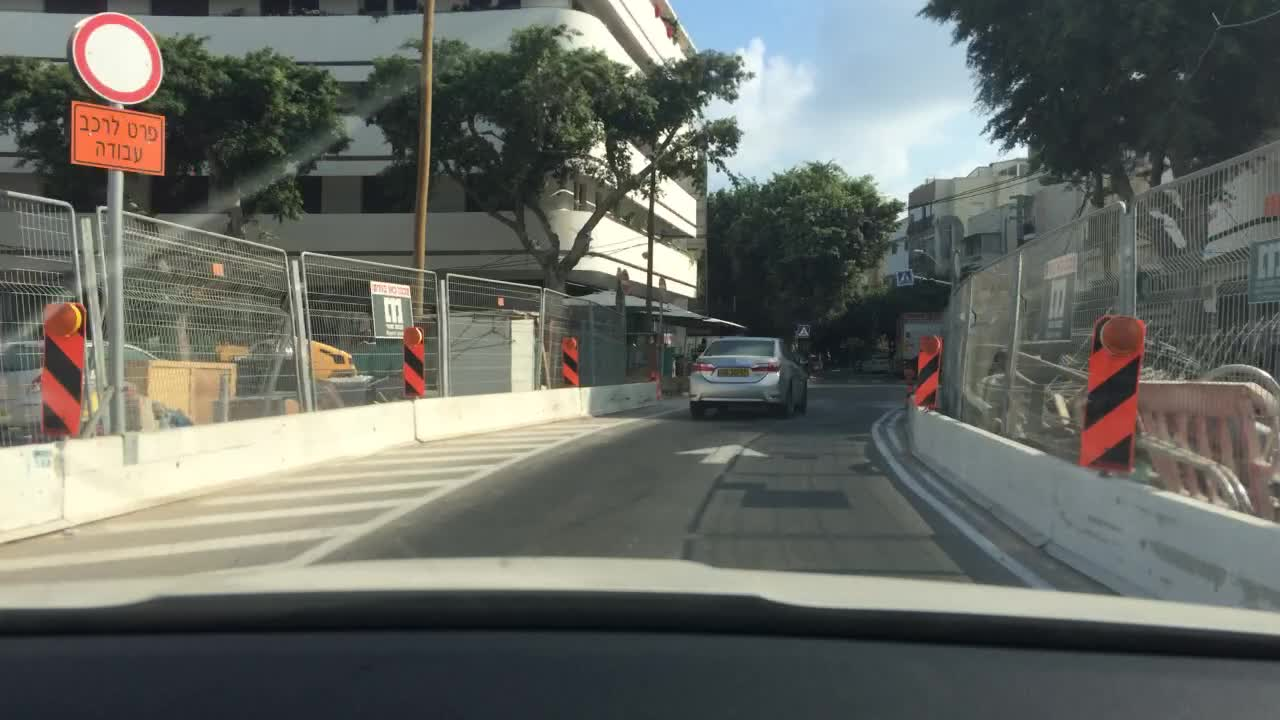car: (1, 336, 156, 432), (139, 328, 358, 378), (687, 334, 810, 418), (857, 352, 894, 375)
traffic sign: (63, 11, 167, 105), (67, 101, 168, 173), (796, 323, 811, 335), (898, 272, 914, 283)
truck: (894, 309, 948, 372)
